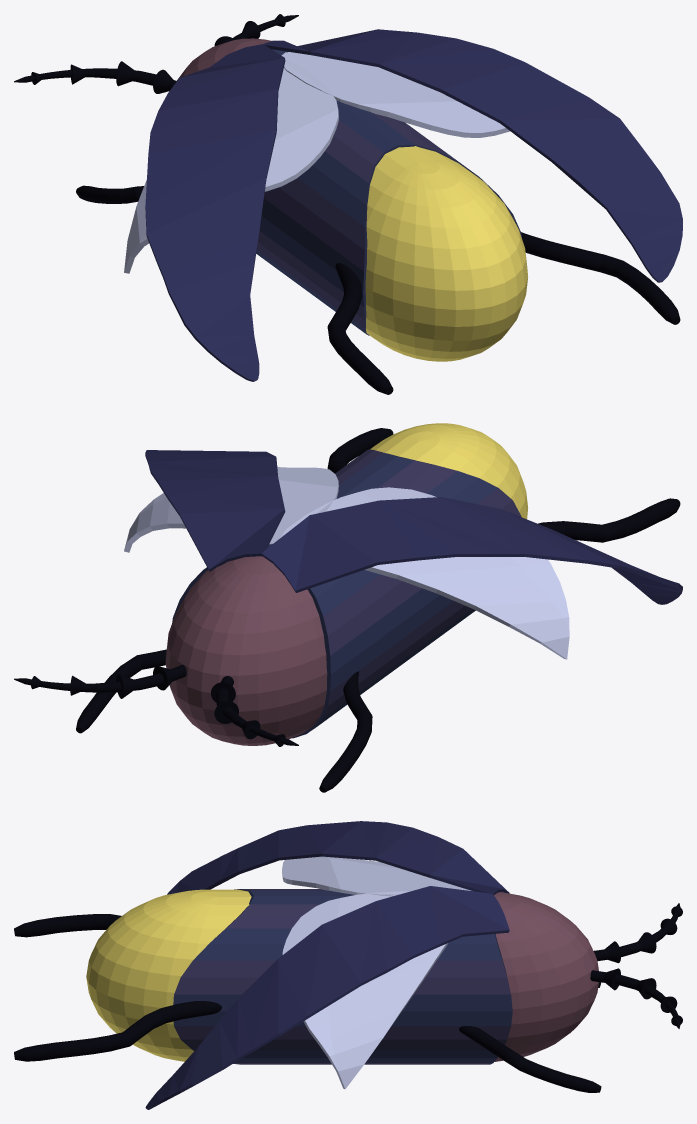
File: Ateşböceği.fbx
3 renders of one model, top to bottom at view 1: azimuth 30°, elevation 25°; view 2: azimuth 150°, elevation 25°; view 3: azimuth 270°, elevation 25°, orthographic. The views are drawn at different scales.
Parts seen in each view (by area): view 1: Üst Kanatlar, Gövde, Kabuk, Alt Kanatlar, Arka Bacaklar, Anten, Ön Bacaklar; view 2: Üst Kanatlar, Gövde, Kabuk, Alt Kanatlar, Anten, Ön Bacaklar, Arka Bacaklar; view 3: Üst Kanatlar, Gövde, Kabuk, Alt Kanatlar, Arka Bacaklar, Anten, Ön Bacaklar.
Boxes of the visible parts, x1=… form: Üst Kanatlar: x1=145, y1=29, x2=682, y2=381; Gövde: x1=176, y1=38, x2=527, y2=361; Kabuk: x1=256, y1=49, x2=521, y2=335; Alt Kanatlar: x1=124, y1=52, x2=509, y2=273; Arka Bacaklar: x1=327, y1=232, x2=680, y2=394; Anten: x1=14, y1=14, x2=298, y2=93; Ön Bacaklar: x1=76, y1=185, x2=143, y2=203; Üst Kanatlar: x1=145, y1=450, x2=682, y2=604; Gövde: x1=165, y1=423, x2=527, y2=745; Kabuk: x1=172, y1=449, x2=521, y2=738; Alt Kanatlar: x1=124, y1=466, x2=569, y2=659; Anten: x1=14, y1=665, x2=298, y2=746; Ön Bacaklar: x1=76, y1=649, x2=372, y2=792; Arka Bacaklar: x1=327, y1=428, x2=680, y2=542; Üst Kanatlar: x1=145, y1=821, x2=509, y2=1109; Gövde: x1=86, y1=889, x2=598, y2=1061; Kabuk: x1=173, y1=889, x2=512, y2=1064; Alt Kanatlar: x1=282, y1=856, x2=471, y2=1089; Arka Bacaklar: x1=14, y1=914, x2=221, y2=1061; Anten: x1=590, y1=903, x2=682, y2=1028; Ön Bacaklar: x1=459, y1=982, x2=601, y2=1092.
Size of the model in its own units: 303 by 118 by 402.
